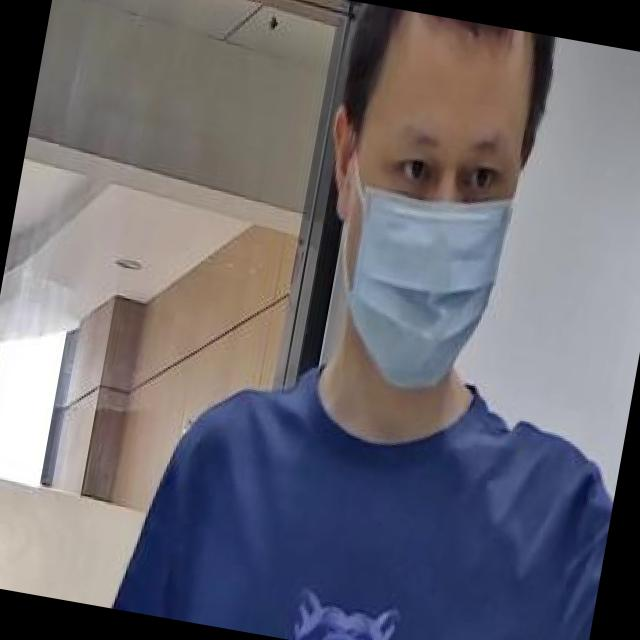Guns: (605, 66, 640, 476)
